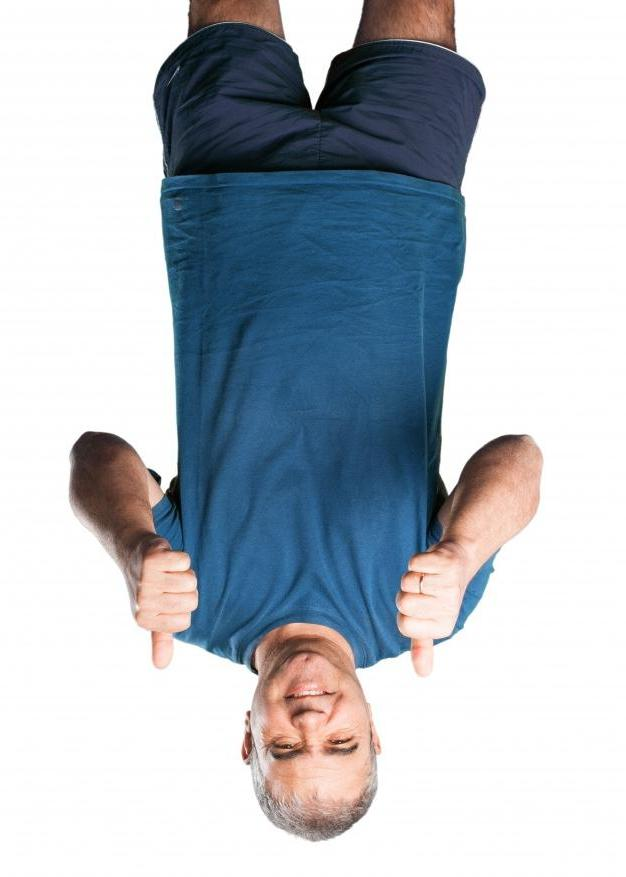thumbsdown: (395, 550, 463, 681), (133, 551, 200, 671)
